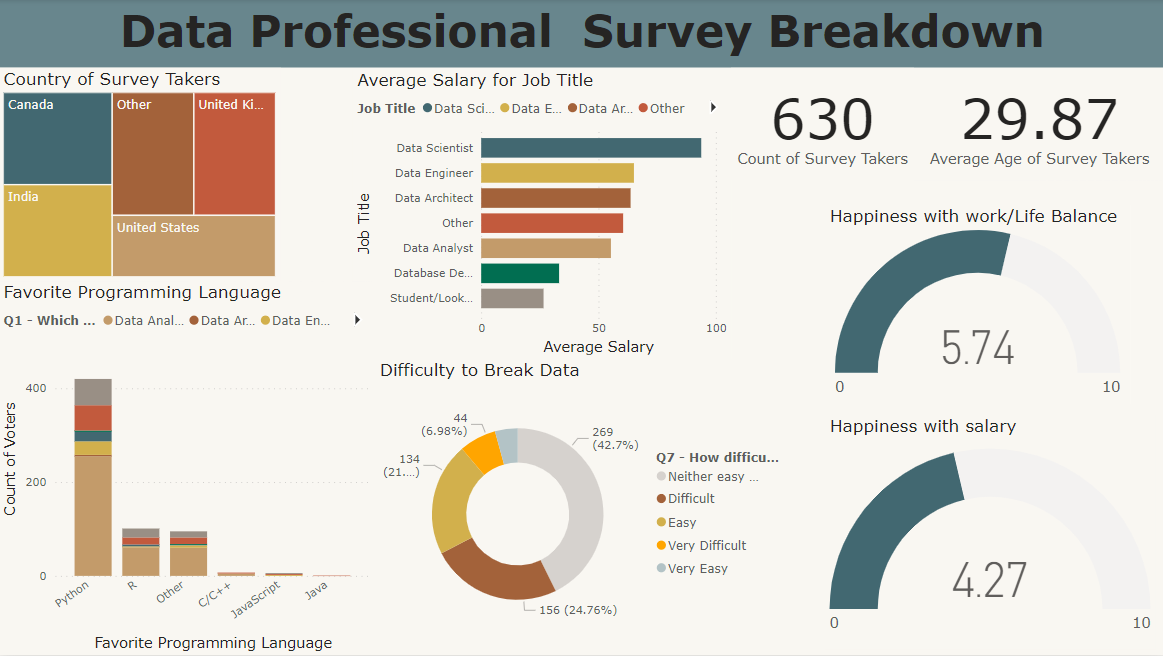

Layout of this report page (visuals, bound fields, positions):
{"tool":"powerbi","page":{"name":"Page 1","canvas":[1280,720],"ordinal":0},"visuals":[{"type":"textbox","box":[0,0,1280.3,75.5],"z":0},{"type":"card","fields":{"Values":["CountNonNull(Data Professional Survey.Unique ID)"]},"box":[804.1,75.5,200.3,123.5],"z":1000},{"type":"card","fields":{"Values":["Avg(Data Professional Survey.Q10 - Current Age)"]},"box":[1004.5,76.8,275.8,122.1],"z":2000},{"type":"barChart","title":"Average Salary for Job Title","fields":{"Category":["Data Professional Survey.Q1 - Which Title Best Fits your Current Role?.1"],"Y":["Avg(Data Professional Survey.Average Salary)"],"Series":["Data Professional Survey.Q1 - Which Title Best Fits your Current Role?.1"]},"box":[388.3,76.8,415.8,318.4],"z":3000},{"type":"columnChart","title":"Favorite Programming Language","fields":{"Category":["Data Professional Survey.Q5 - Favorite Programming Language.1"],"Y":["CountNonNull(Data Professional Survey.Unique ID)"],"Series":["Data Professional Survey.Q1 - Which Title Best Fits your Current Role?.1"]},"box":[0,310.1,413,410.3],"z":4000},{"type":"treemap","title":"Country of Survey Takers","fields":{"Group":["Data Professional Survey.Q11 - Which Country do you live in?.1"],"Values":["Count(Data Professional Survey.Q11 - Which Country do you live in?.1)"]},"box":[0,75.5,308.7,234.6],"z":5000},{"type":"gauge","title":"Happiness with work/Life Balance","fields":{"Y":["Avg(Data Professional Survey.Q6 - How Happy are you in your Current Position with the following? (Work/Life Balance))"],"MinValue":["Min(Data Professional Survey.Q6 - How Happy are you in your Current Position with the following? (Work/Life Balance))1"],"MaxValue":["Max(Data Professional Survey.Q6 - How Happy are you in your Current Position with the following? (Work/Life Balance))2"]},"box":[907,226.4,334.8,218.2],"z":6000},{"type":"gauge","title":"Happiness with salary","fields":{"Y":["Avg(Data Professional Survey.Q6 - How Happy are you in your Current Position with the following? (Salary))"],"MinValue":["Min(Data Professional Survey.Q6 - How Happy are you in your Current Position with the following? (Salary))1"],"MaxValue":["Max(Data Professional Survey.Q6 - How Happy are you in your Current Position with the following? (Salary))"]},"box":[906.5,457.2,362.3,256.6],"z":7000},{"type":"donutChart","title":"Difficulty to Break Data","fields":{"Y":["CountNonNull(Data Professional Survey.Q7 - How difficult was it for you to break into Data?)"],"Category":["Data Professional Survey.Q7 - How difficult was it for you to break into Data?"]},"box":[413,395.2,443.2,318.4],"z":8000}]}

Visuals, with their boxes in screenshot pixels (x1, y1, x2, y2), scaled from the page's 1280x720 canvas onto the 1163x656 screenshot:
textbox: {"left": 0, "top": 0, "right": 1162, "bottom": 69}
card - CountNonNull(Data Professional Survey.Unique ID): {"left": 731, "top": 69, "right": 913, "bottom": 181}
card - Avg(Data Professional Survey.Q10 - Current Age): {"left": 913, "top": 70, "right": 1162, "bottom": 181}
"Average Salary for Job Title" barChart: {"left": 353, "top": 70, "right": 731, "bottom": 360}
"Favorite Programming Language" columnChart: {"left": 0, "top": 283, "right": 375, "bottom": 655}
"Country of Survey Takers" treemap: {"left": 0, "top": 69, "right": 280, "bottom": 283}
"Happiness with work/Life Balance" gauge: {"left": 824, "top": 206, "right": 1128, "bottom": 405}
"Happiness with salary" gauge: {"left": 824, "top": 417, "right": 1153, "bottom": 650}
"Difficulty to Break Data" donutChart: {"left": 375, "top": 360, "right": 778, "bottom": 650}
